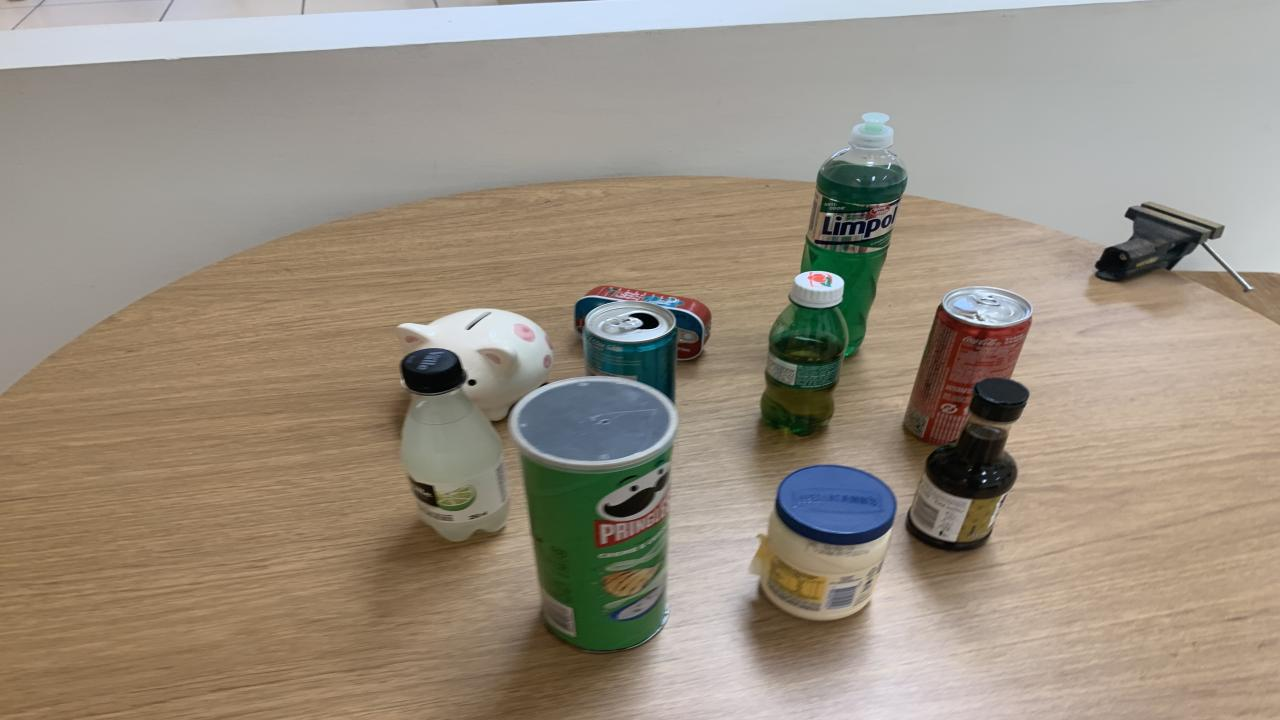Coke-Drinks: (905, 287, 1032, 444)
Detergent-Cleanup_Items: (800, 112, 908, 356)
English_Sauce-Pantry_Items: (908, 377, 1030, 549)
Guarana-Drinks: (760, 270, 848, 435)
Mayonnaise-Pantry_Items: (750, 465, 898, 621)
Pig_Safe-Miscellaneous: (395, 308, 552, 422)
Pringles-Snacks: (510, 375, 678, 651)
Soda-Drinks: (400, 347, 510, 542)
Tea-Drinks: (582, 302, 678, 399)
Tuna_Can-Pantry_Items: (575, 285, 712, 360)
